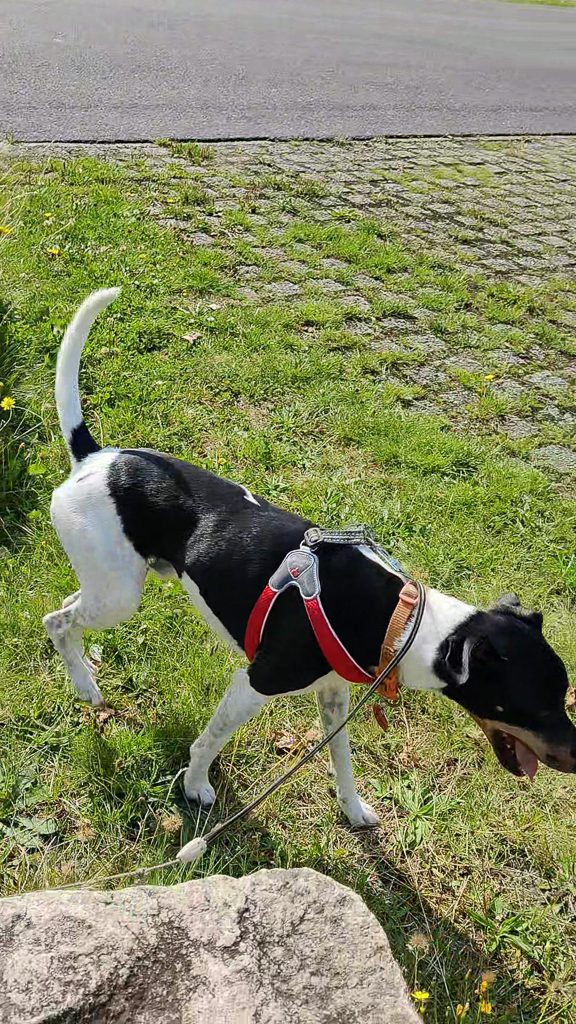Dog: (28, 260, 576, 857)
